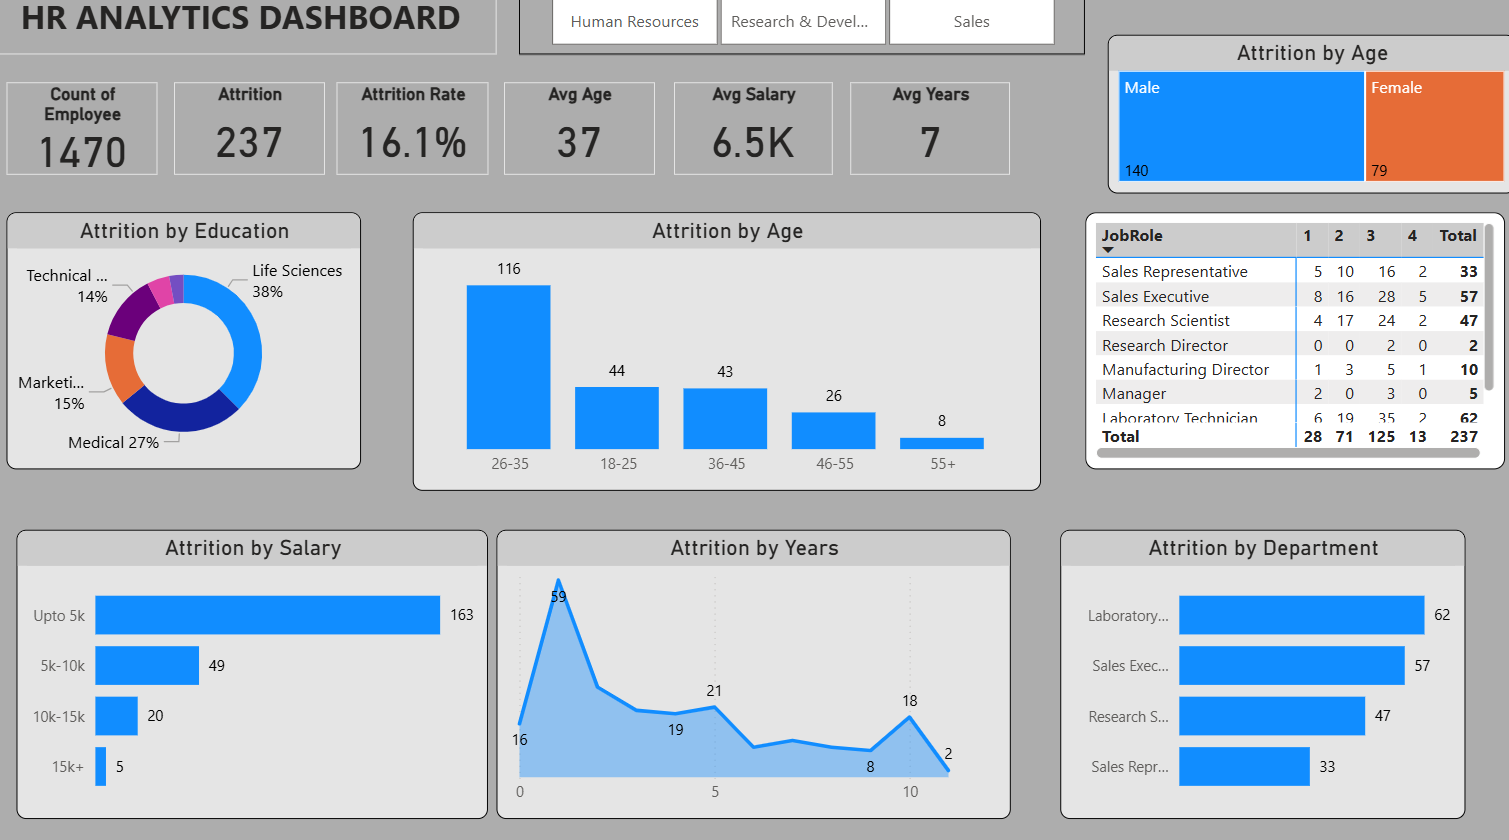

Layout of this report page (visuals, bound fields, positions):
{"tool":"powerbi","page":{"name":"HR Analytics Dashboard","canvas":[1280,720],"ordinal":0},"visuals":[{"type":"card","title":"Count of Employee","fields":{"Values":["CountNonNull(HR_Analytics (1).EmpID)"]},"box":[26.2,87.5,123.8,76.2],"z":0},{"type":"card","title":"      Attrition","fields":{"Values":["Sum(HR_Analytics (1).Attrition Count)"]},"box":[163.8,87.5,123.8,76.2],"z":1000},{"type":"card","title":"Attrition Rate","fields":{"Values":["HR_Analytics (1).AttritionRate"]},"box":[297.5,87.5,125,76.2],"z":2000},{"type":"card","title":"Avg Age ","fields":{"Values":["Avg(HR_Analytics (1).Age)"]},"box":[435,87.5,123.8,76.2],"z":3000},{"type":"card","title":"Avg Salary","fields":{"Values":["Avg(HR_Analytics (1).MonthlyIncome)"]},"box":[575,87.5,130,76.2],"z":4000},{"type":"card","title":"Avg Years","fields":{"Values":["Avg(HR_Analytics (1).YearsAtCompany)"]},"box":[720,87.5,131.2,76.2],"z":5000},{"type":"donutChart","title":"Attrition by Education","fields":{"Category":["HR_Analytics (1).EducationField"],"Y":["Sum(HR_Analytics (1).Attrition Count)"]},"box":[26.2,193.8,291.2,211.2],"z":6000},{"type":"columnChart","title":"Attrition by Age","fields":{"Category":["HR_Analytics (1).AgeGroup"],"Y":["Sum(HR_Analytics (1).Attrition Count)"]},"box":[360,193.8,516.2,228.8],"z":7000},{"type":"pivotTable","fields":{"Rows":["HR_Analytics (1).JobRole"],"Columns":["HR_Analytics (1).JobInvolvement"],"Values":["Sum(HR_Analytics (1).Attrition Count)"]},"box":[912.5,193.8,345,211.2],"z":8000},{"type":"barChart","title":"Attrition by Salary","fields":{"Category":["HR_Analytics (1).SalarySlab"],"Y":["Sum(HR_Analytics (1).Attrition Count)"]},"box":[35,455,387.5,237.5],"z":9000},{"type":"barChart","title":"Attrition by Department","fields":{"Y":["Sum(HR_Analytics (1).Attrition Count)"],"Category":["HR_Analytics (1).JobRole"]},"box":[892.5,455,332.5,237.5],"z":10000},{"type":"areaChart","title":"Attrition by Years","fields":{"Category":["HR_Analytics (1).YearsAtCompany"],"Y":["Sum(HR_Analytics (1).Attrition Count)"]},"box":[428.8,455,422.5,237.5],"z":11000},{"type":"treemap","title":"Attrition by Age","fields":{"Group":["HR_Analytics (1).Gender"],"Values":["Sum(HR_Analytics (1).Attrition Count)"]},"box":[931.2,48.8,335,130],"z":12000},{"type":"slicer","fields":{"Values":["HR_Analytics (1).Department"]},"box":[447.5,8.8,465,55],"z":13000},{"type":"textbox","box":[8.8,8.8,420,55],"z":14000}]}

Visuals, with their boxes in screenshot pixels (x1, y1, x2, y2), scaled from the page's 1280x720 canvas onto the 1509x840 screenshot:
"Count of Employee" card: rect(31, 102, 177, 191)
"      Attrition" card: rect(193, 102, 339, 191)
"Attrition Rate" card: rect(351, 102, 498, 191)
"Avg Age " card: rect(513, 102, 659, 191)
"Avg Salary" card: rect(678, 102, 831, 191)
"Avg Years" card: rect(849, 102, 1003, 191)
"Attrition by Education" donutChart: rect(31, 226, 374, 473)
"Attrition by Age" columnChart: rect(424, 226, 1033, 493)
pivotTable - HR_Analytics (1).JobRole x HR_Analytics (1).JobInvolvement: rect(1076, 226, 1482, 473)
"Attrition by Salary" barChart: rect(41, 531, 498, 808)
"Attrition by Department" barChart: rect(1052, 531, 1444, 808)
"Attrition by Years" areaChart: rect(506, 531, 1004, 808)
"Attrition by Age" treemap: rect(1098, 57, 1493, 209)
slicer - HR_Analytics (1).Department: rect(528, 10, 1076, 74)
textbox: rect(10, 10, 506, 74)
